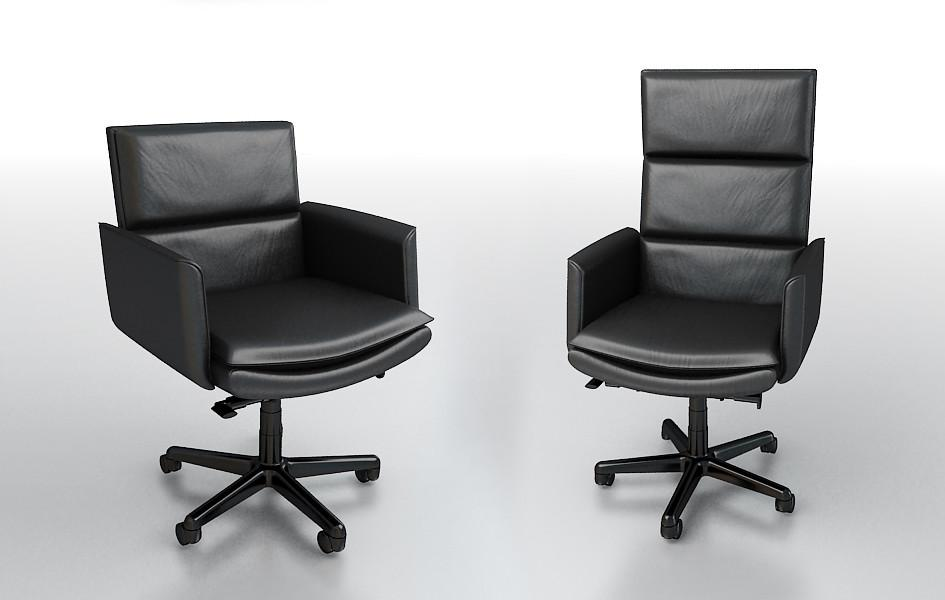chair: (98, 120, 435, 555), (566, 68, 826, 540)
